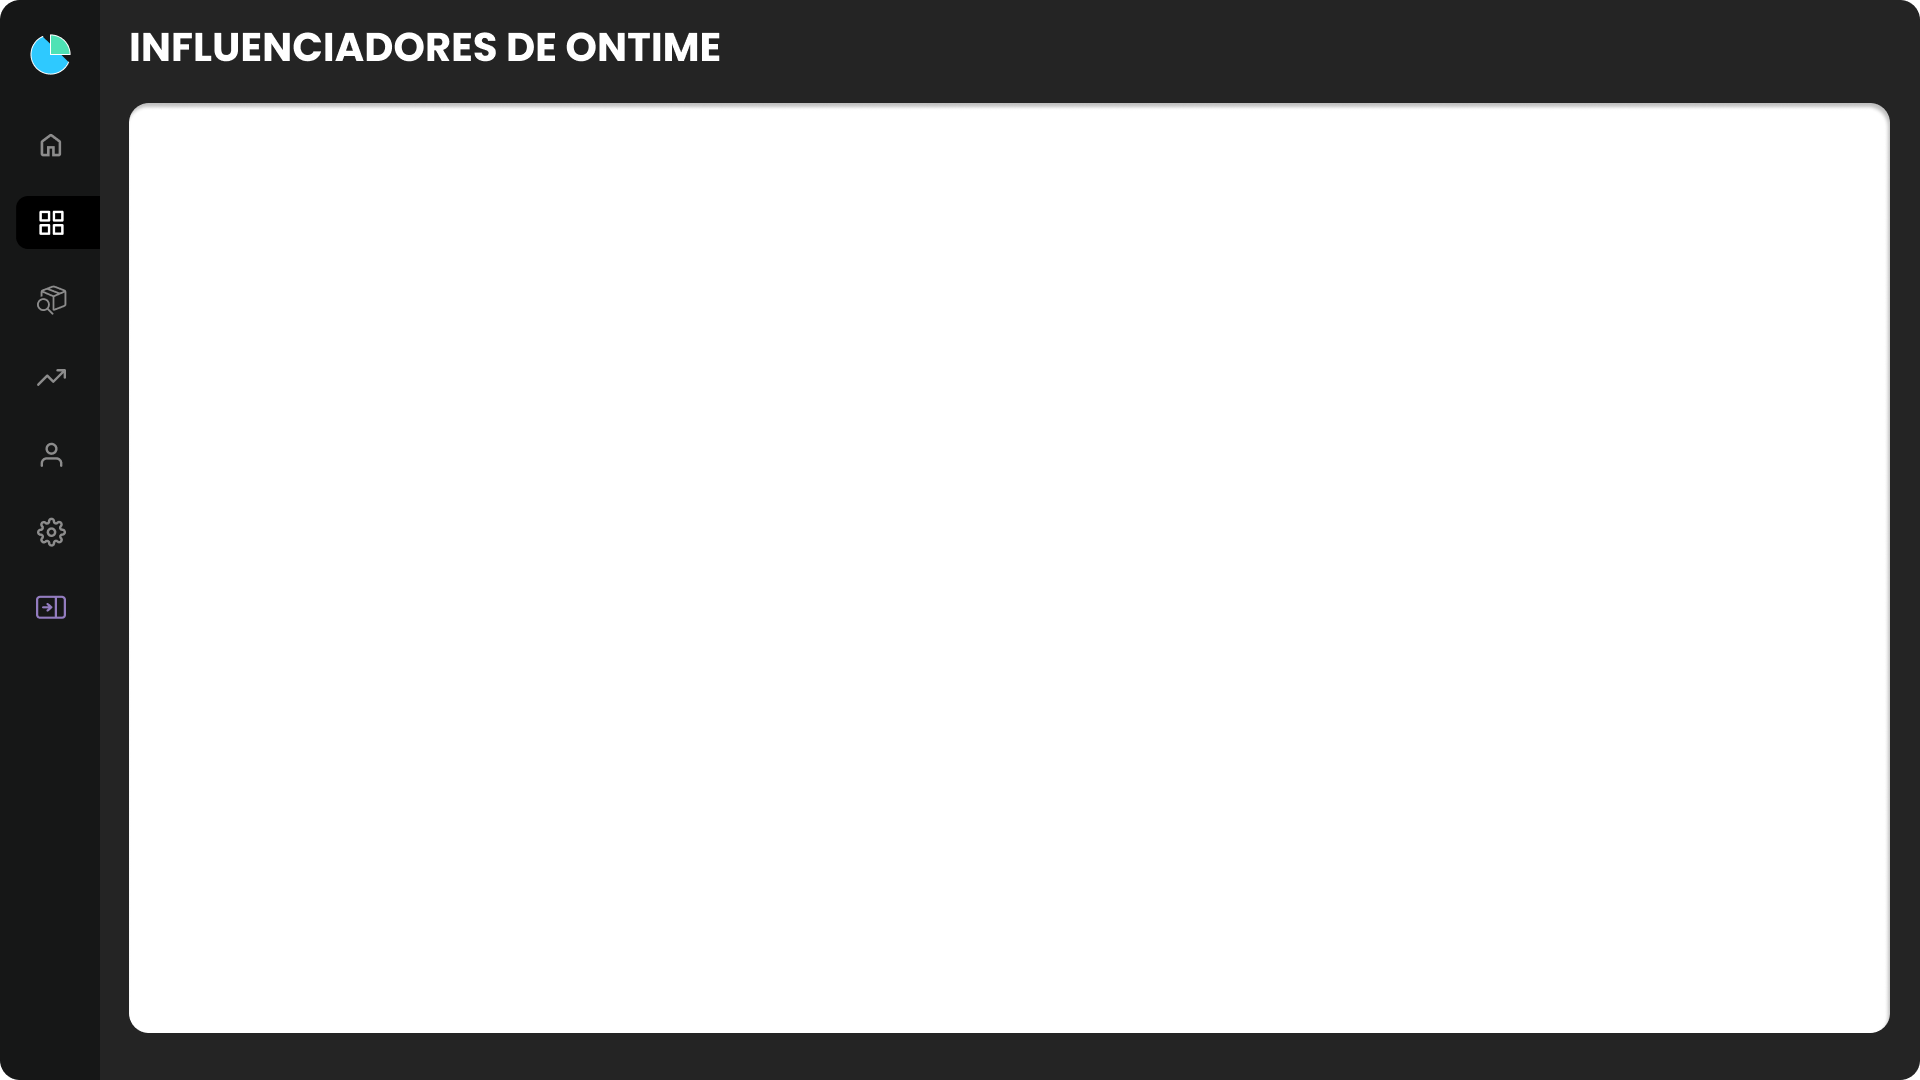

The dashboard page shown, as its layout file describes it:
{"tool":"powerbi","page":{"name":"Influenciadores","canvas":[1280,720],"ordinal":3},"visuals":[{"type":"keyDriversVisual","fields":{"Target":["Pedidos.No prazo?"],"ExplainBy":["Pedidos.Fornecedor"]},"box":[99.4,69.9,1142.3,604.9],"z":0}]}

Visuals, with their boxes on the page's 1280x720 design canvas (x1, y1, x2, y2). These are canvas units, not pixel positions in the 1920x1080 screenshot, which may show the page scaled, cropped or inside an application window:
keyDriversVisual - Pedidos.No prazo? x Pedidos.Fornecedor: (99, 70, 1242, 675)
